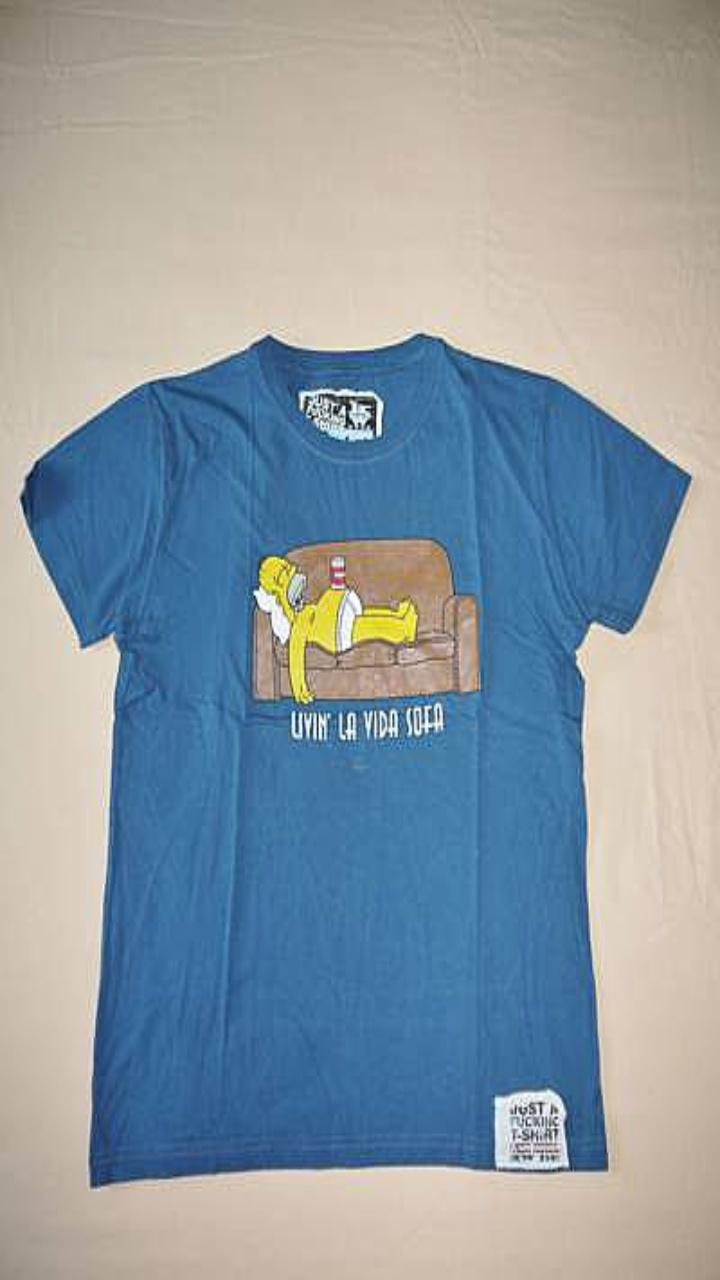T-Shirt: (21, 333, 690, 1185)
